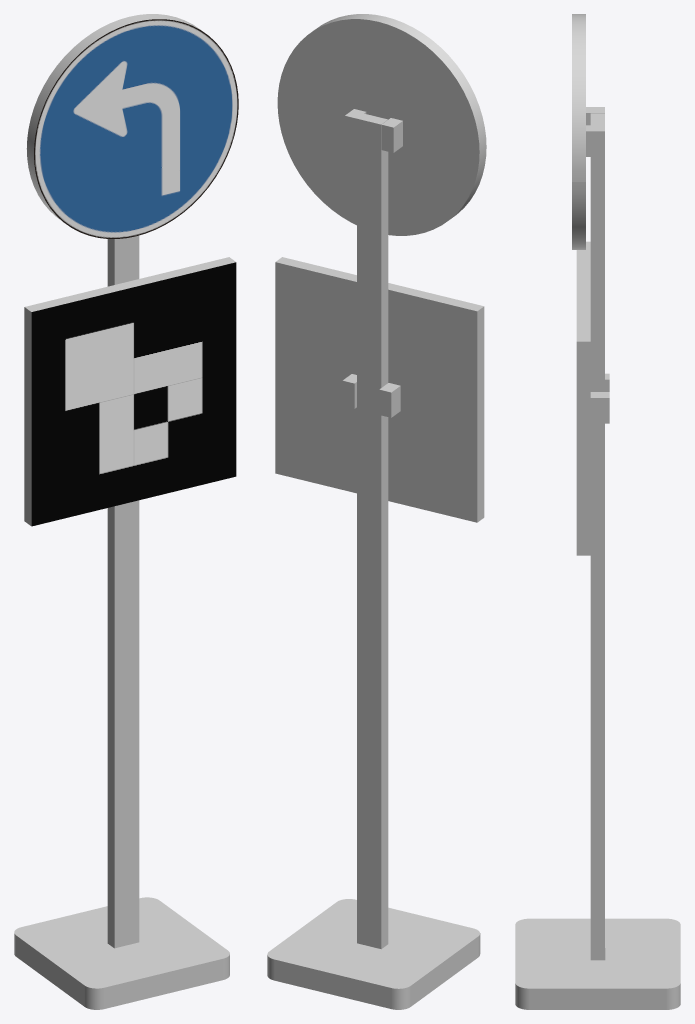
The model's file is izq_aruco.dae.
3 views of the same model, side by side, from view 1: azimuth 30°, elevation 25°; view 2: azimuth 150°, elevation 25°; view 3: azimuth 270°, elevation 25° (orthographic).
Visible parts, largest first — view 1: f588d094-0755-4c38-8462-3900dbdaa4ed, aa94b1a8-7e8a-42b3-b8ff-5f0b5307c12d, c30a0bdb-4ab0-44c9-83d6-f26b7ae5876f, a0c2a83a-9bec-4f75-9970-ebf10841f1a6, a49c6463-6440-46b5-a2b6-574787aeea5c, cc1613a1-22d0-4847-b65c-5d30b21fd3f2, cc568044-efa6-4ca4-8cd7-1b65a3dce840; view 2: deddf22f-2b49-448b-9e96-4bdc6b971590, a434430b-85f2-4210-81a8-61959ba66672, c30a0bdb-4ab0-44c9-83d6-f26b7ae5876f, a0c2a83a-9bec-4f75-9970-ebf10841f1a6, a49c6463-6440-46b5-a2b6-574787aeea5c, cc1613a1-22d0-4847-b65c-5d30b21fd3f2, cc568044-efa6-4ca4-8cd7-1b65a3dce840, a9660ecd-d0f8-4dcf-9ced-e72bef667074, d3dd6aff-cb69-4255-8e75-475210391490; view 3: a0c2a83a-9bec-4f75-9970-ebf10841f1a6, c30a0bdb-4ab0-44c9-83d6-f26b7ae5876f, a49c6463-6440-46b5-a2b6-574787aeea5c, e9ec033d-a483-450e-867c-a768f891256c, cc568044-efa6-4ca4-8cd7-1b65a3dce840, a0ae76c9-ebea-48c2-9450-579af6b506c7, afabc760-ea0e-4daa-a45c-225496743f83.
Part boxes in pixels (box(x1,y1,x2,y2)): f588d094-0755-4c38-8462-3900dbdaa4ed: box(31, 262, 236, 526); aa94b1a8-7e8a-42b3-b8ff-5f0b5307c12d: box(34, 19, 238, 238); c30a0bdb-4ab0-44c9-83d6-f26b7ae5876f: box(107, 235, 139, 948); a0c2a83a-9bec-4f75-9970-ebf10841f1a6: box(14, 897, 229, 1009); a49c6463-6440-46b5-a2b6-574787aeea5c: box(26, 14, 202, 221); cc1613a1-22d0-4847-b65c-5d30b21fd3f2: box(24, 307, 31, 526); cc568044-efa6-4ca4-8cd7-1b65a3dce840: box(25, 257, 235, 311); deddf22f-2b49-448b-9e96-4bdc6b971590: box(275, 262, 477, 522); a434430b-85f2-4210-81a8-61959ba66672: box(277, 19, 479, 235); c30a0bdb-4ab0-44c9-83d6-f26b7ae5876f: box(357, 113, 388, 949); a0c2a83a-9bec-4f75-9970-ebf10841f1a6: box(267, 899, 480, 1009); a49c6463-6440-46b5-a2b6-574787aeea5c: box(312, 14, 486, 218); cc1613a1-22d0-4847-b65c-5d30b21fd3f2: box(477, 306, 484, 522); cc568044-efa6-4ca4-8cd7-1b65a3dce840: box(275, 257, 483, 311); a9660ecd-d0f8-4dcf-9ced-e72bef667074: box(379, 383, 400, 417); d3dd6aff-cb69-4255-8e75-475210391490: box(381, 118, 402, 152); a0c2a83a-9bec-4f75-9970-ebf10841f1a6: box(515, 918, 680, 1009); c30a0bdb-4ab0-44c9-83d6-f26b7ae5876f: box(590, 113, 604, 960); a49c6463-6440-46b5-a2b6-574787aeea5c: box(572, 14, 585, 249); e9ec033d-a483-450e-867c-a768f891256c: box(576, 341, 590, 555); cc568044-efa6-4ca4-8cd7-1b65a3dce840: box(576, 241, 590, 341); a0ae76c9-ebea-48c2-9450-579af6b506c7: box(590, 392, 609, 423); afabc760-ea0e-4daa-a45c-225496743f83: box(586, 125, 604, 156).
Bounding box in the file's own units: 0.05 × 0.035 × 0.222.
Materials: 2 (2 with a texture image).
